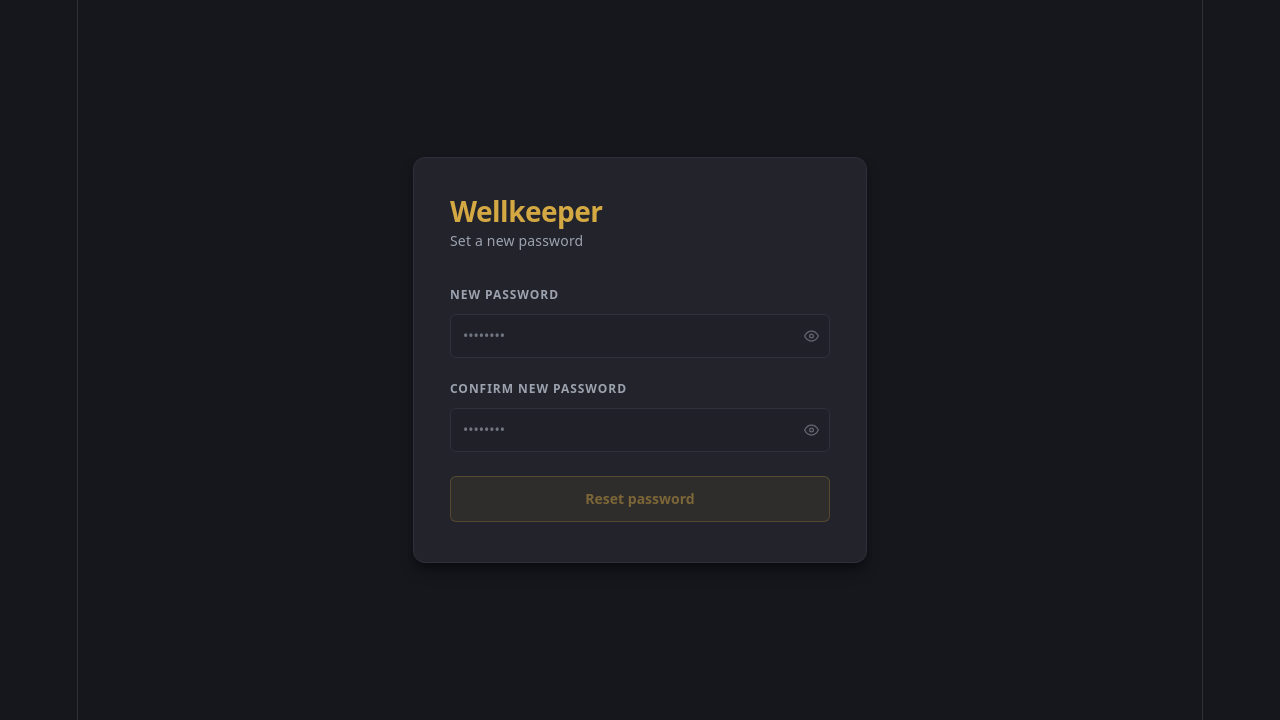
Test: ResetPasswordPage › shows a client-side error when passwords do not match
Type "newpass1" into the password field labelled "New password" at [640, 336], box [450, 314, 830, 358]
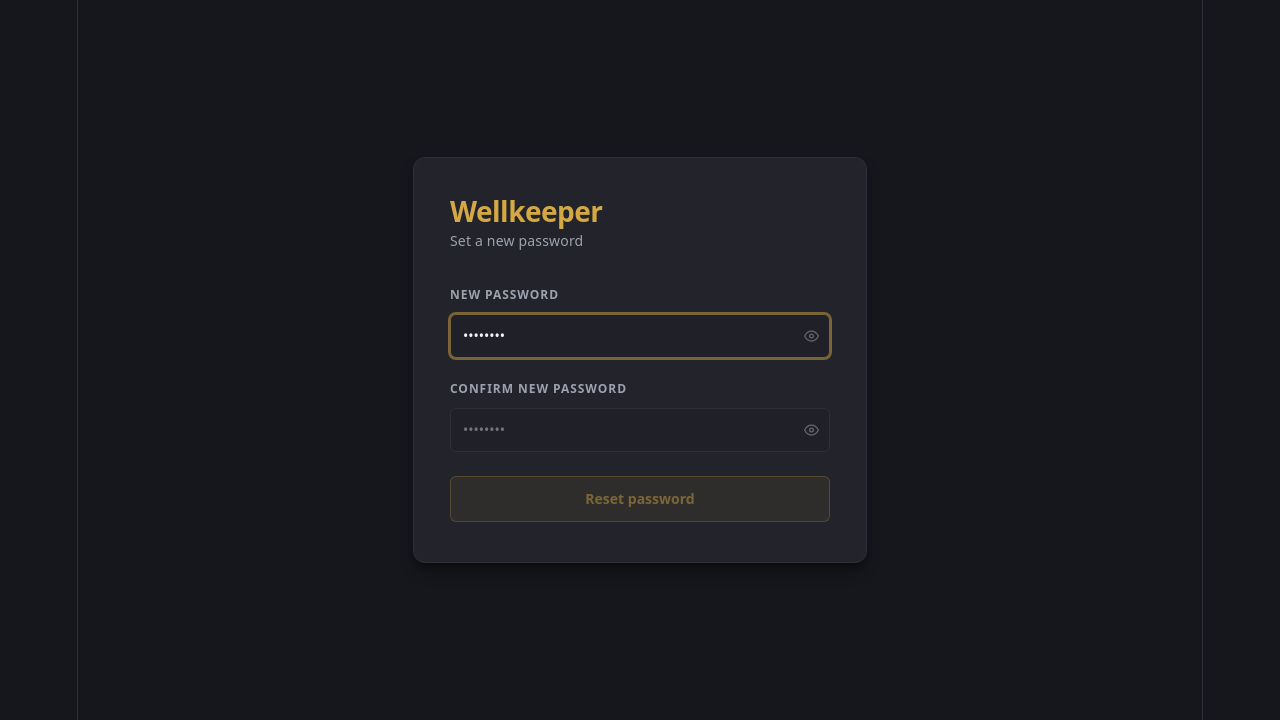
Type "newpass2" into the password field labelled "Confirm new password" at [640, 430], box [450, 408, 830, 452]
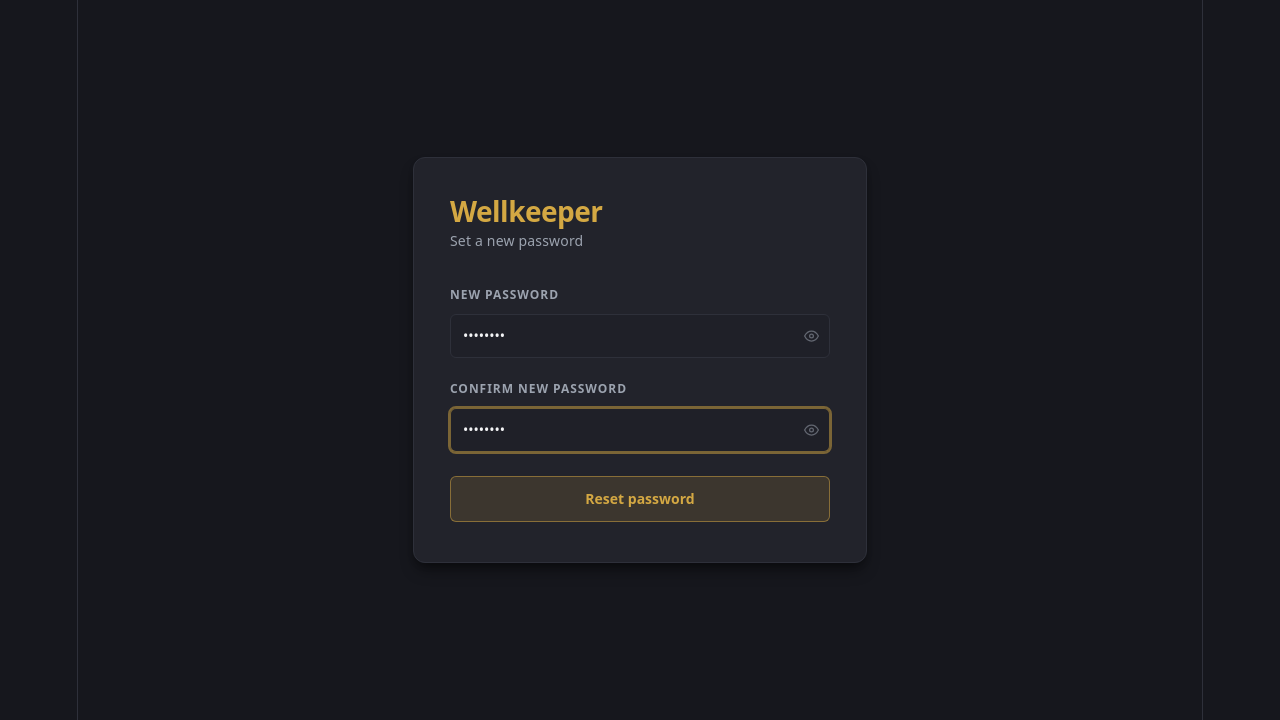
Click the button "Reset password" at [640, 499], box [450, 476, 830, 522]
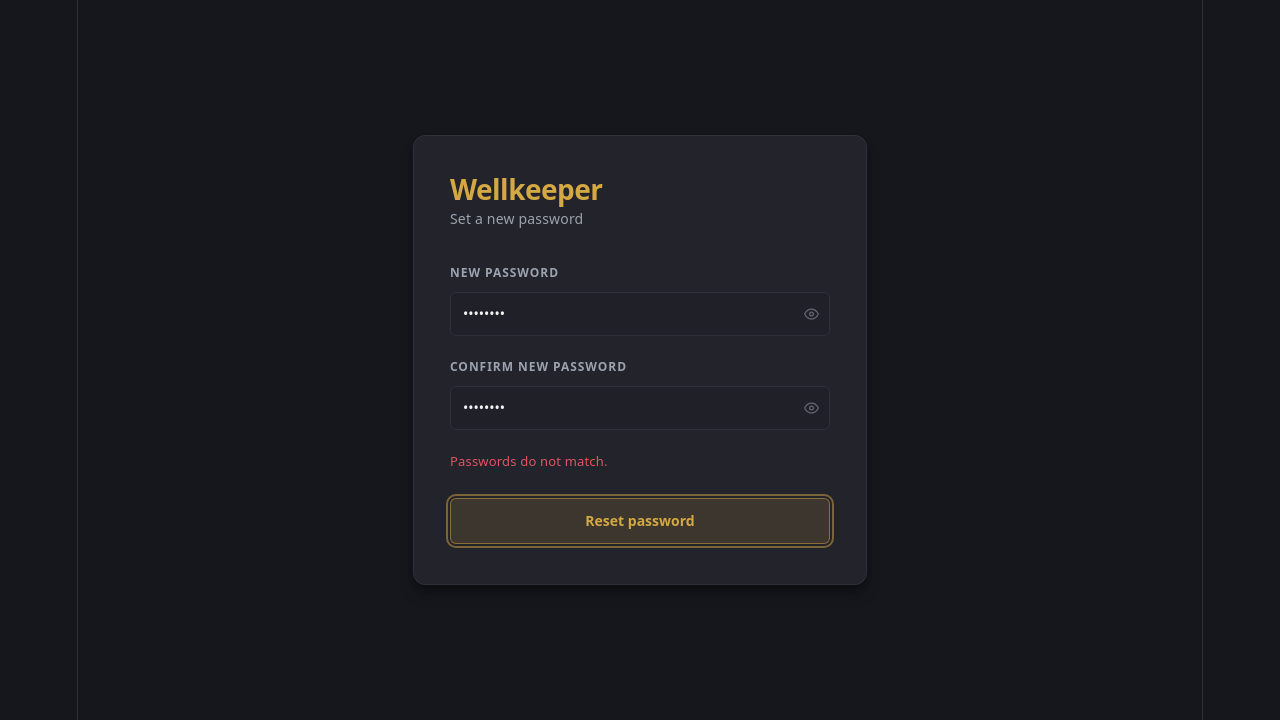
Result: the message shows "Passwords do not match" at [450, 452, 608, 470]
